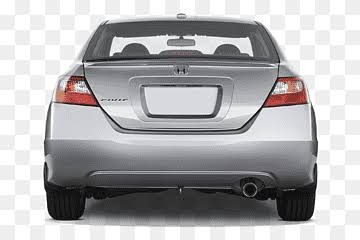car: (46, 9, 302, 218)
